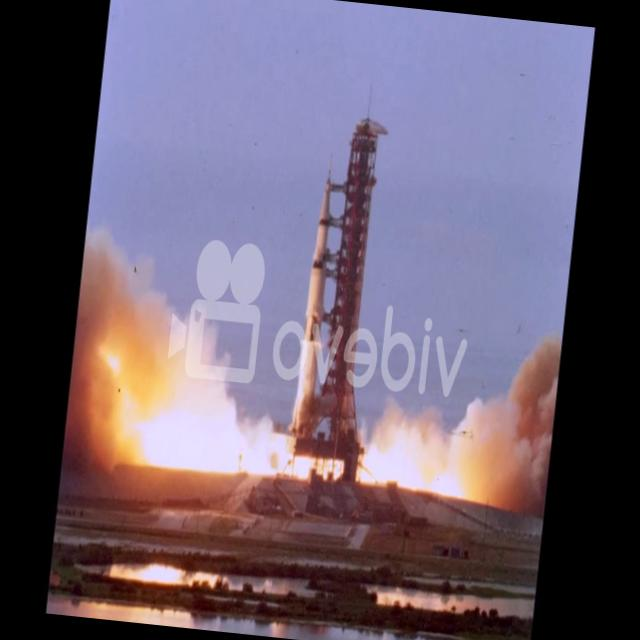rocket: (283, 160, 336, 470)
